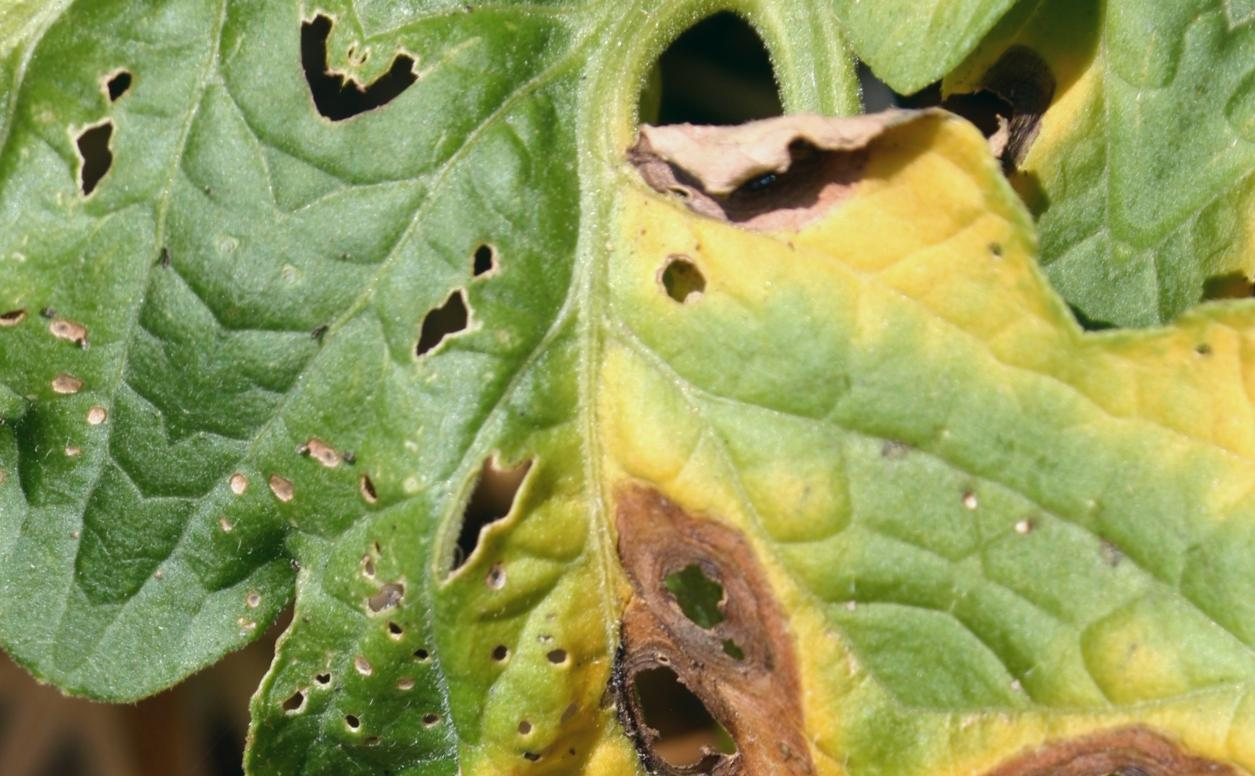Tomato Early blight leaf: (6, 0, 1097, 776)
